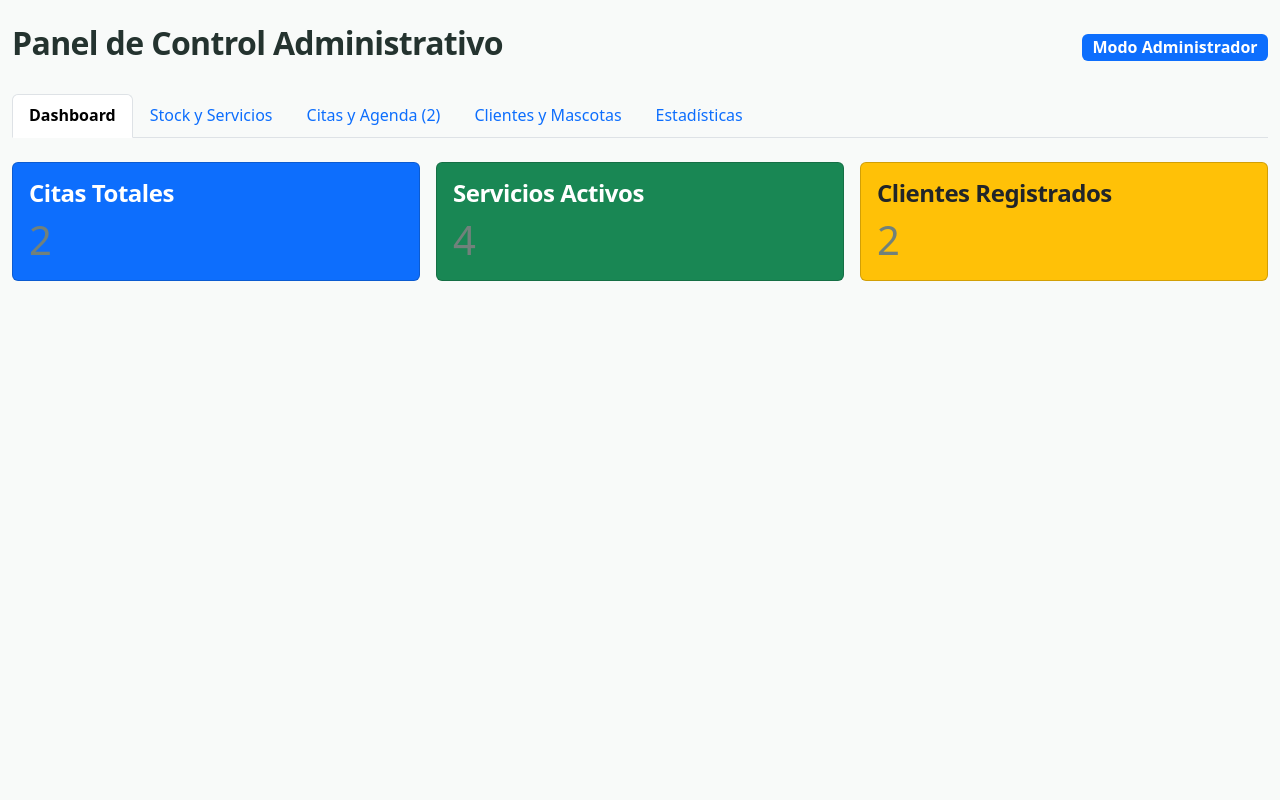
Test case: AdminPage › la pestaña Stock y Servicios lista el catálogo inicial
The width and height of the screenshot is (1280, 800).
Click the button "Stock y Servicios" at point(211, 116), box [133, 94, 290, 138]
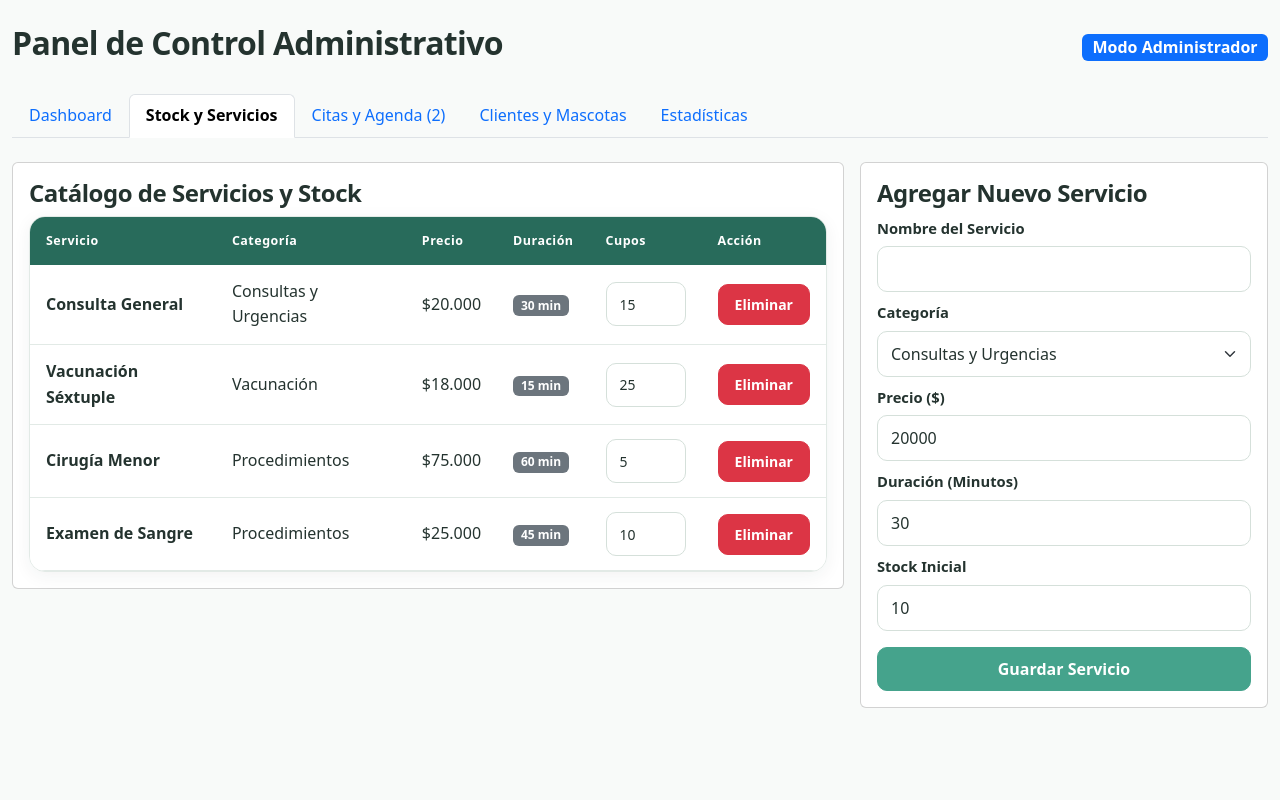
Check: the text "Consulta General" is shown, box [46, 292, 183, 314]
Check: the text "Cirugía Menor" is shown, box [46, 449, 160, 471]
